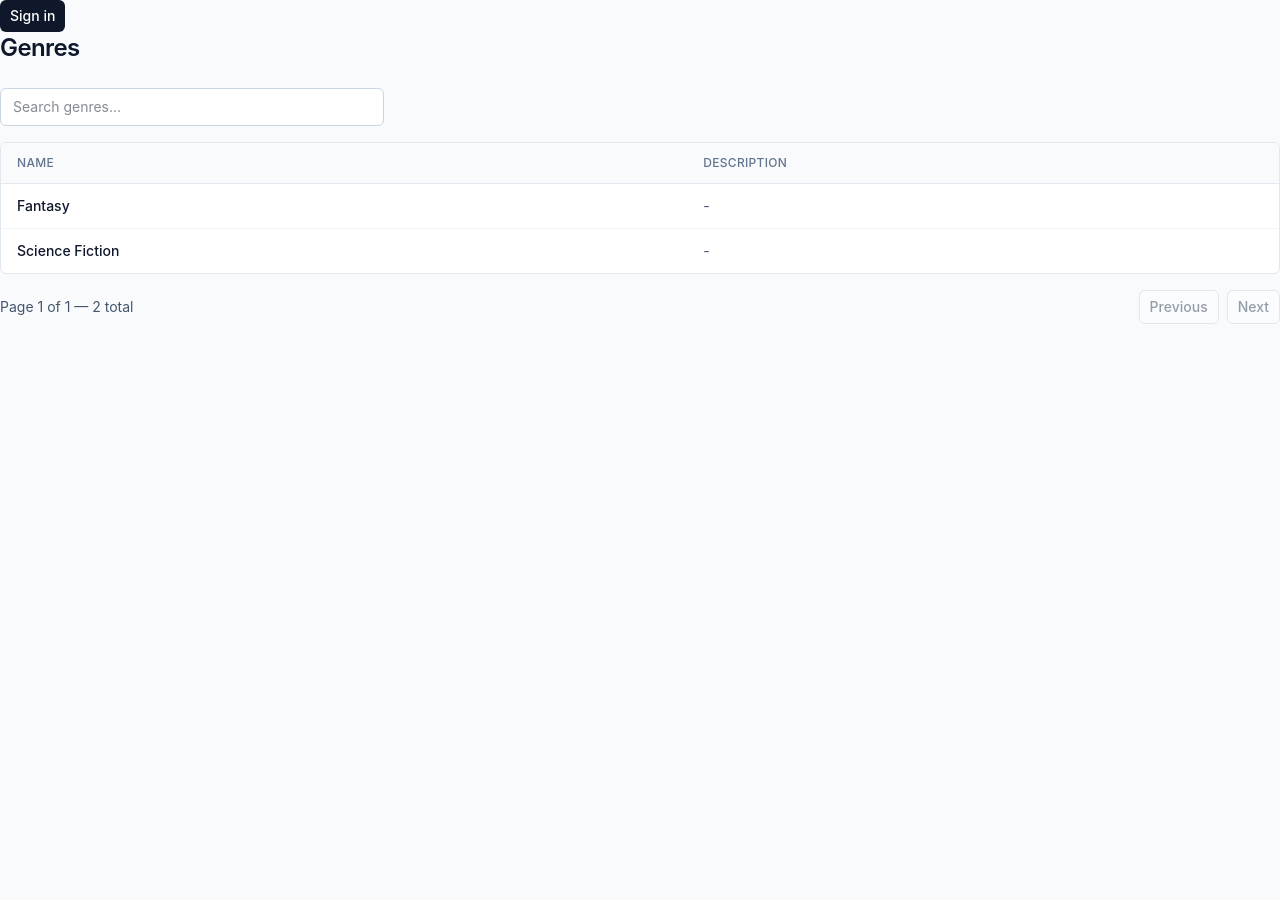
Scenario: Genres › keeps the dialog open and explains a duplicate name
Click the button "Sign in". click: (33, 16)
box: [0, 0, 65, 32]
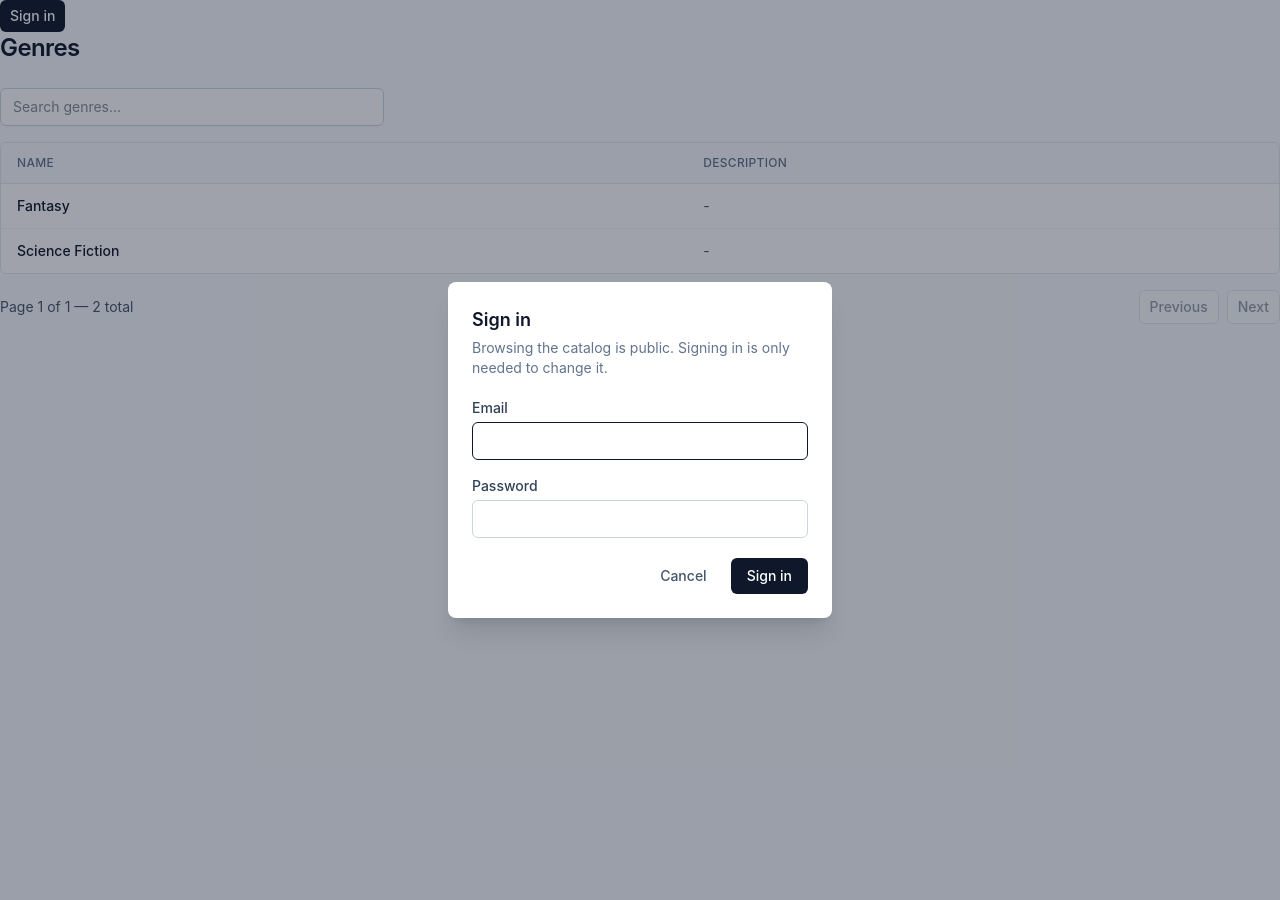
Type "admin@librarycatalog.dev" into the field labelled "Email". click: (640, 441)
box: [472, 422, 808, 460]
Type "Admin@123" into the password field labelled "Password". click: (640, 519)
box: [472, 500, 808, 538]
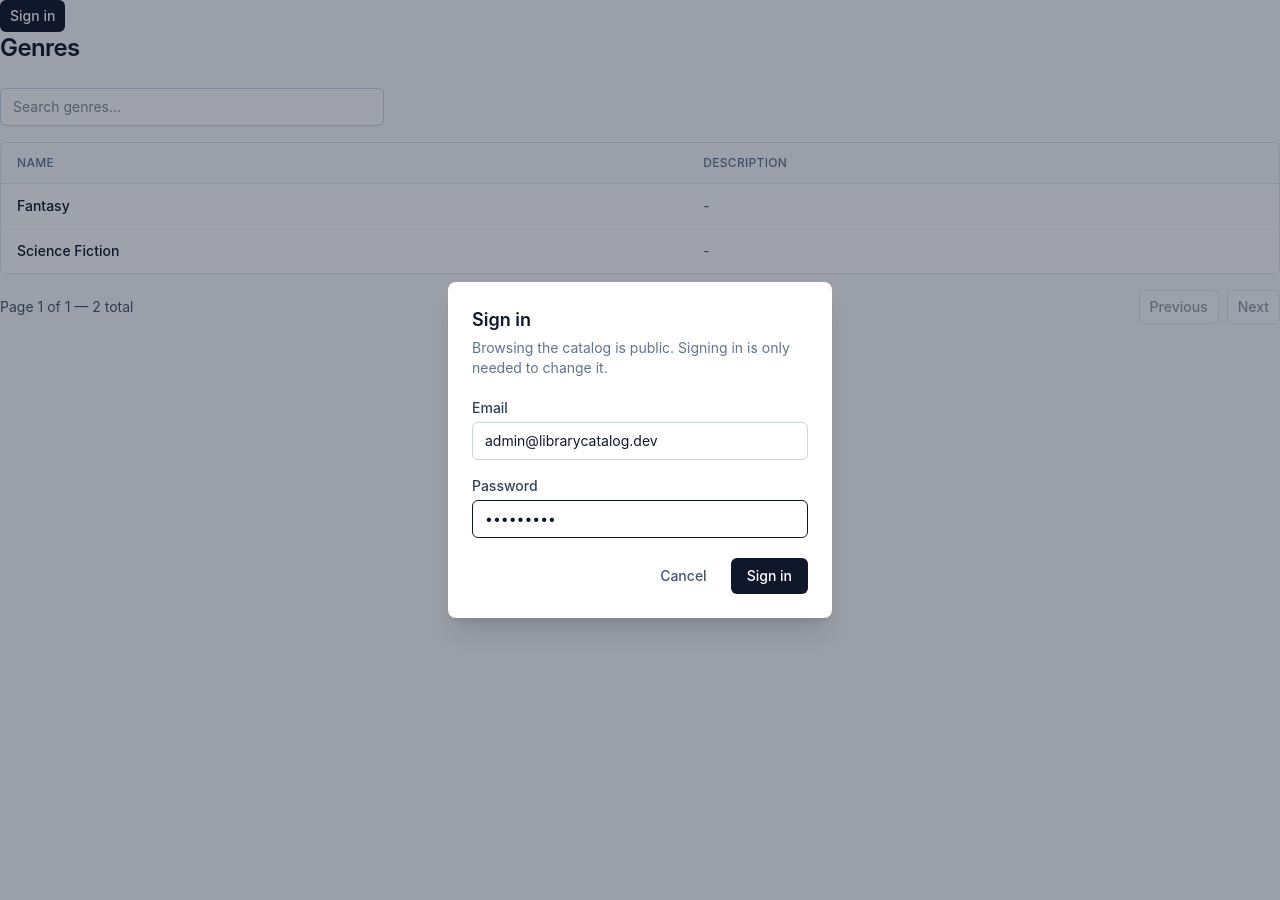
Click the button "Sign in" below "Password". click: (769, 576)
box: [731, 558, 808, 594]
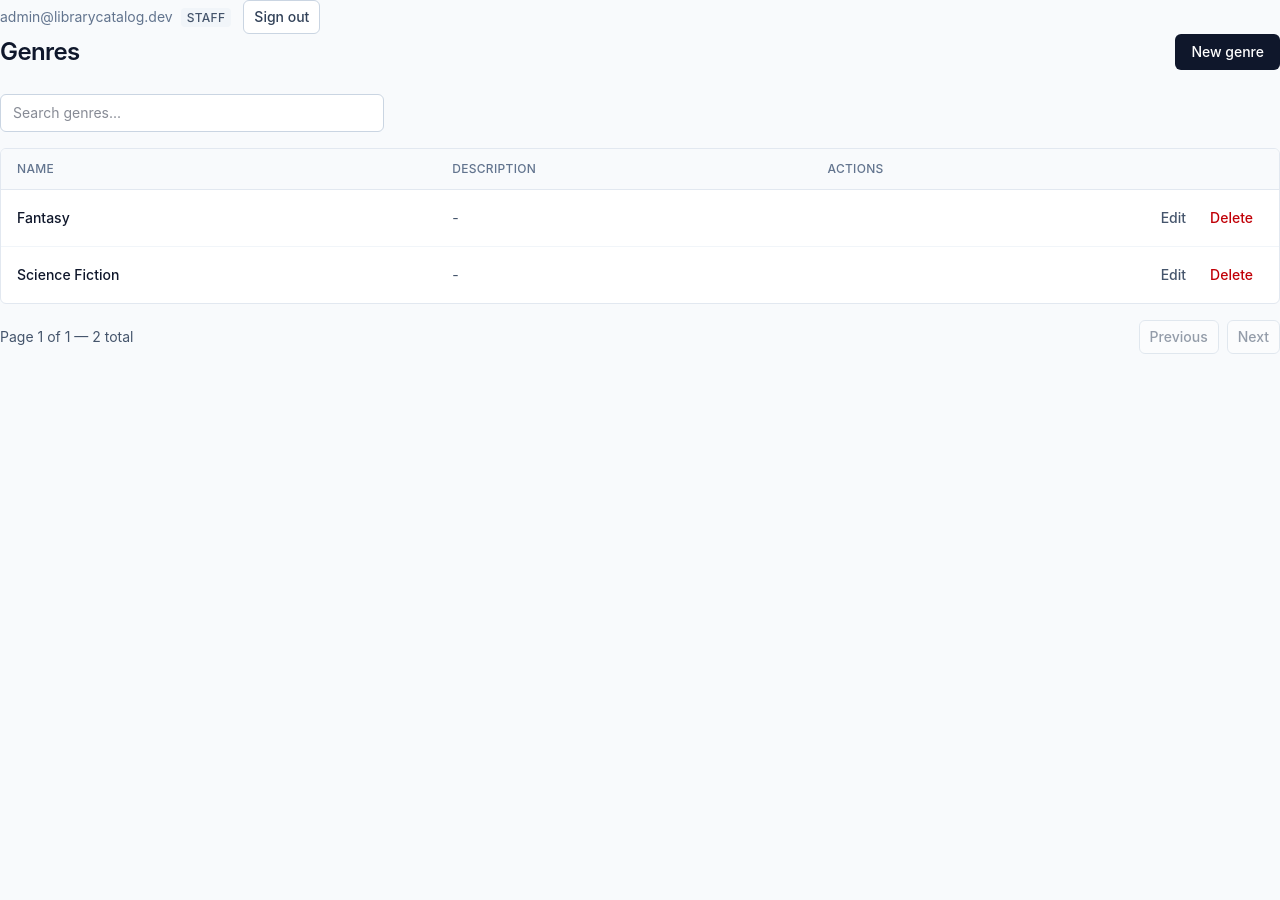
Check: the dialog is gone
Click the button "New genre". click: (1228, 52)
box: [1175, 34, 1279, 70]
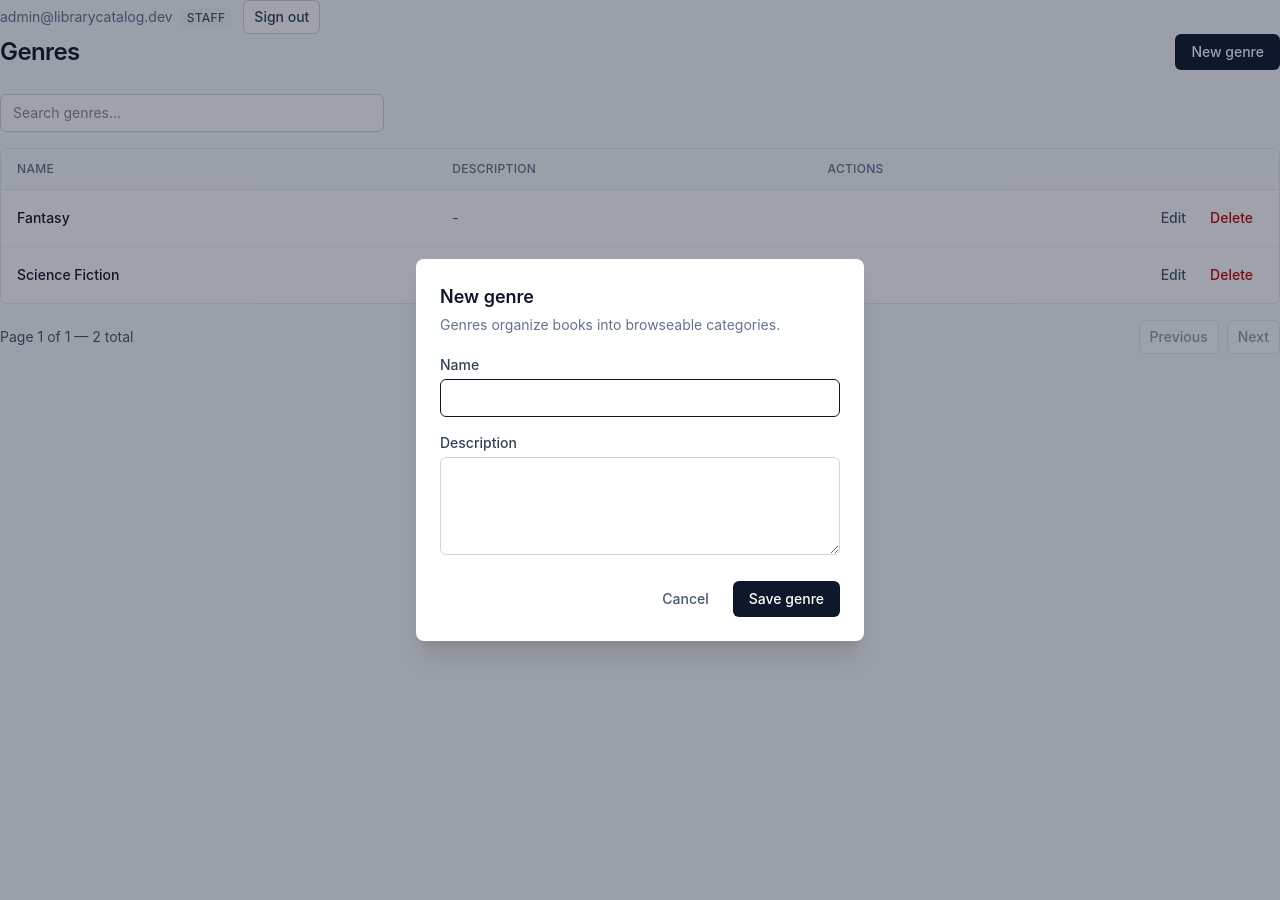
Type "fantasy" into the field labelled "Name". click: (640, 398)
box: [440, 379, 840, 417]
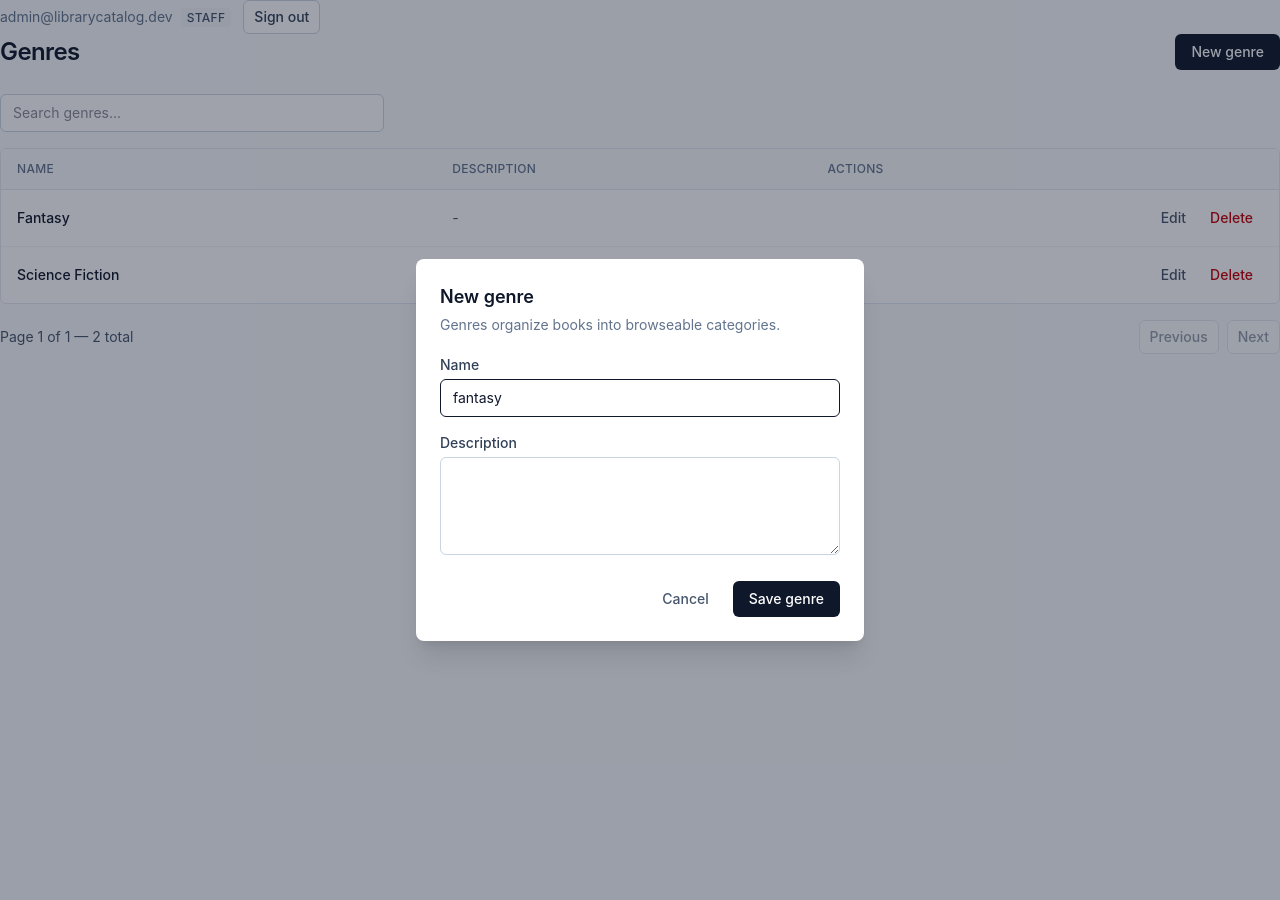
Click the button "Save genre". click: (786, 599)
box: [733, 581, 840, 617]
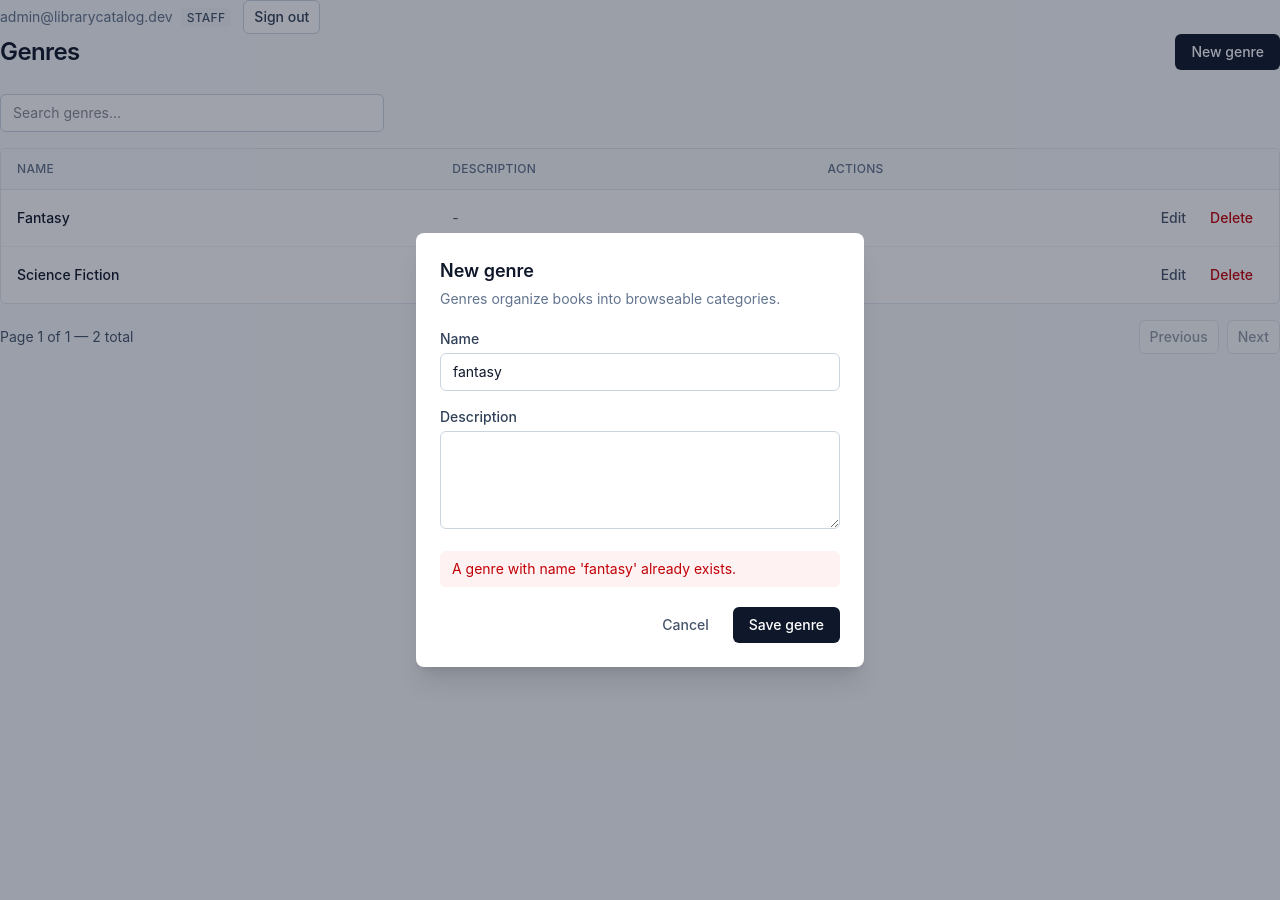
Check: the dialog is shown, box [416, 233, 864, 667]
Check: the text "A genre with name 'fantasy' already exists." is shown, box [440, 551, 840, 587]
